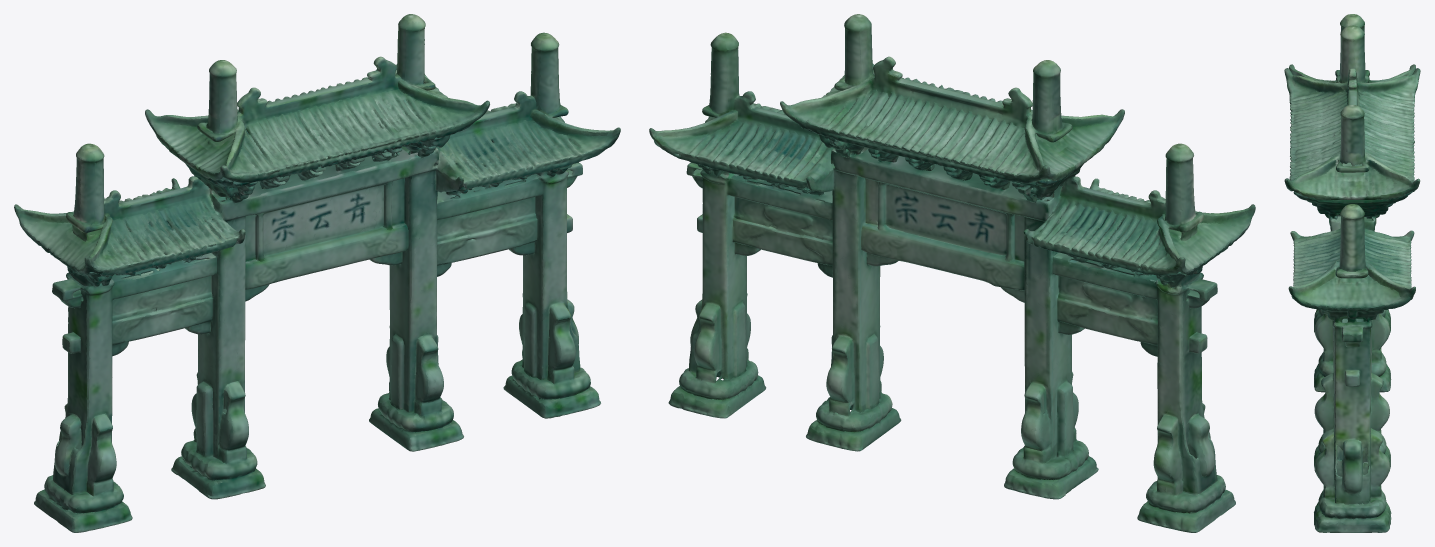
Rendered from gate.glb.
3 views of the same model, side by side, from view 1: azimuth 30°, elevation 25°; view 2: azimuth 150°, elevation 25°; view 3: azimuth 270°, elevation 25° (orthographic). The views are drawn at different scales.
Parts seen in each view (by area): view 1: geometry_0; view 2: geometry_0; view 3: geometry_0.
Boxes of the visible parts, x1,y1,x2,y2 form: geometry_0: (14,14,620,532); geometry_0: (649,14,1255,532); geometry_0: (1284,14,1420,532).
Size of the model in its own units: 8 by 5.95 by 2.06.
Materials: 1 (1 with a texture image).
